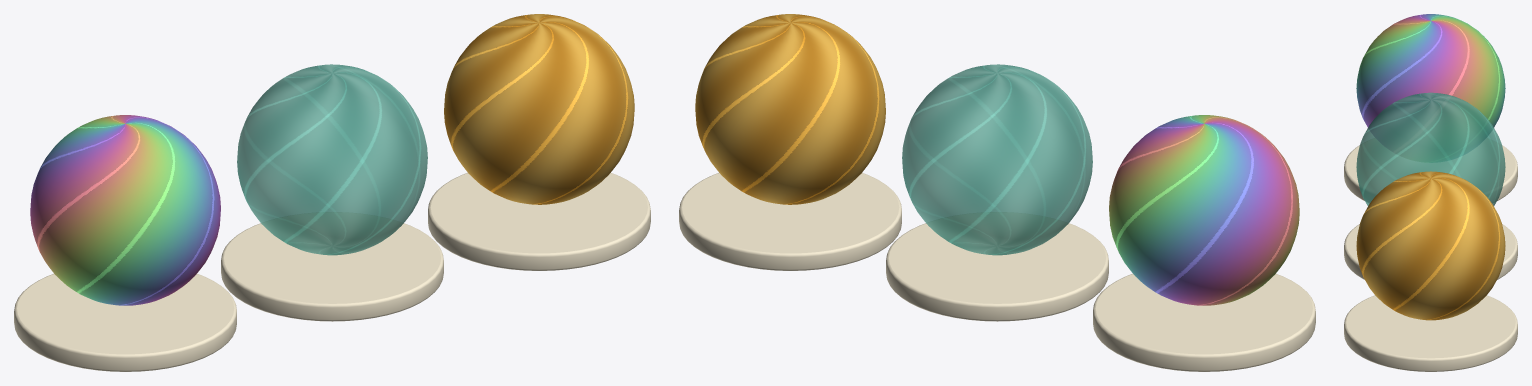
Rendered from material-kit.glb.
3 renders of one model, left to right at view 1: azimuth 30°, elevation 25°; view 2: azimuth 150°, elevation 25°; view 3: azimuth 270°, elevation 25°, orthographic. The views are drawn at different scales.
Parts seen in each view (by area): view 1: material-kit; view 2: material-kit; view 3: material-kit.
Boxes of the visible parts, left/top/right/bottom form: material-kit: left=14, top=14, right=650, bottom=371; material-kit: left=679, top=14, right=1315, bottom=371; material-kit: left=1344, top=14, right=1517, bottom=371.
Size of the model in its own units: 4.4 by 1.4 by 1.4.
Materials: 4 (3 with a texture image).
